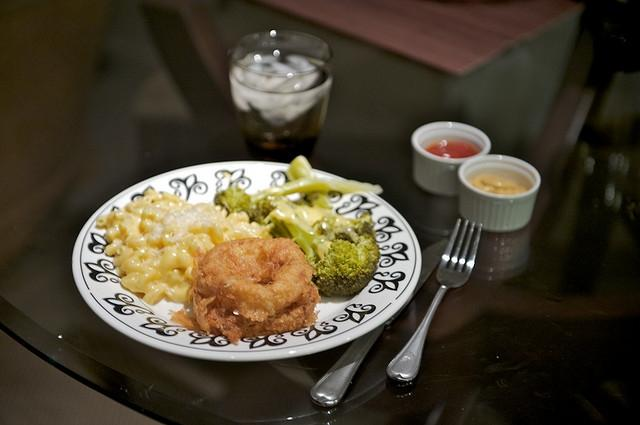broccoli: (214, 177, 382, 225), (285, 154, 375, 243), (284, 218, 381, 298), (281, 195, 333, 227)
